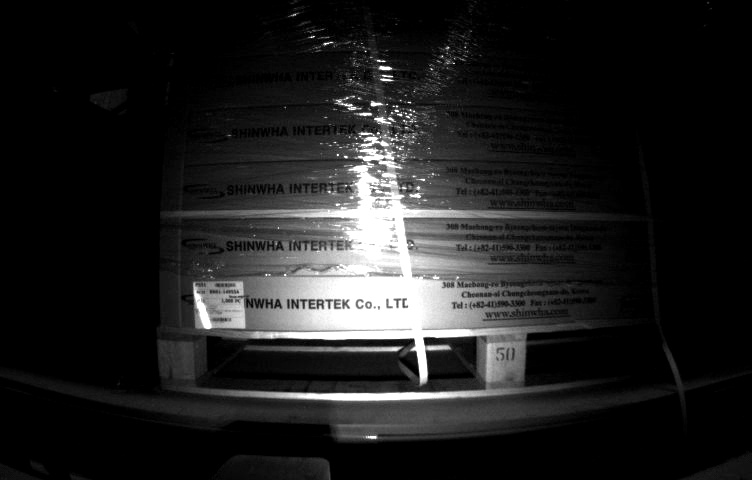True Barcode: (189, 279, 247, 328)
